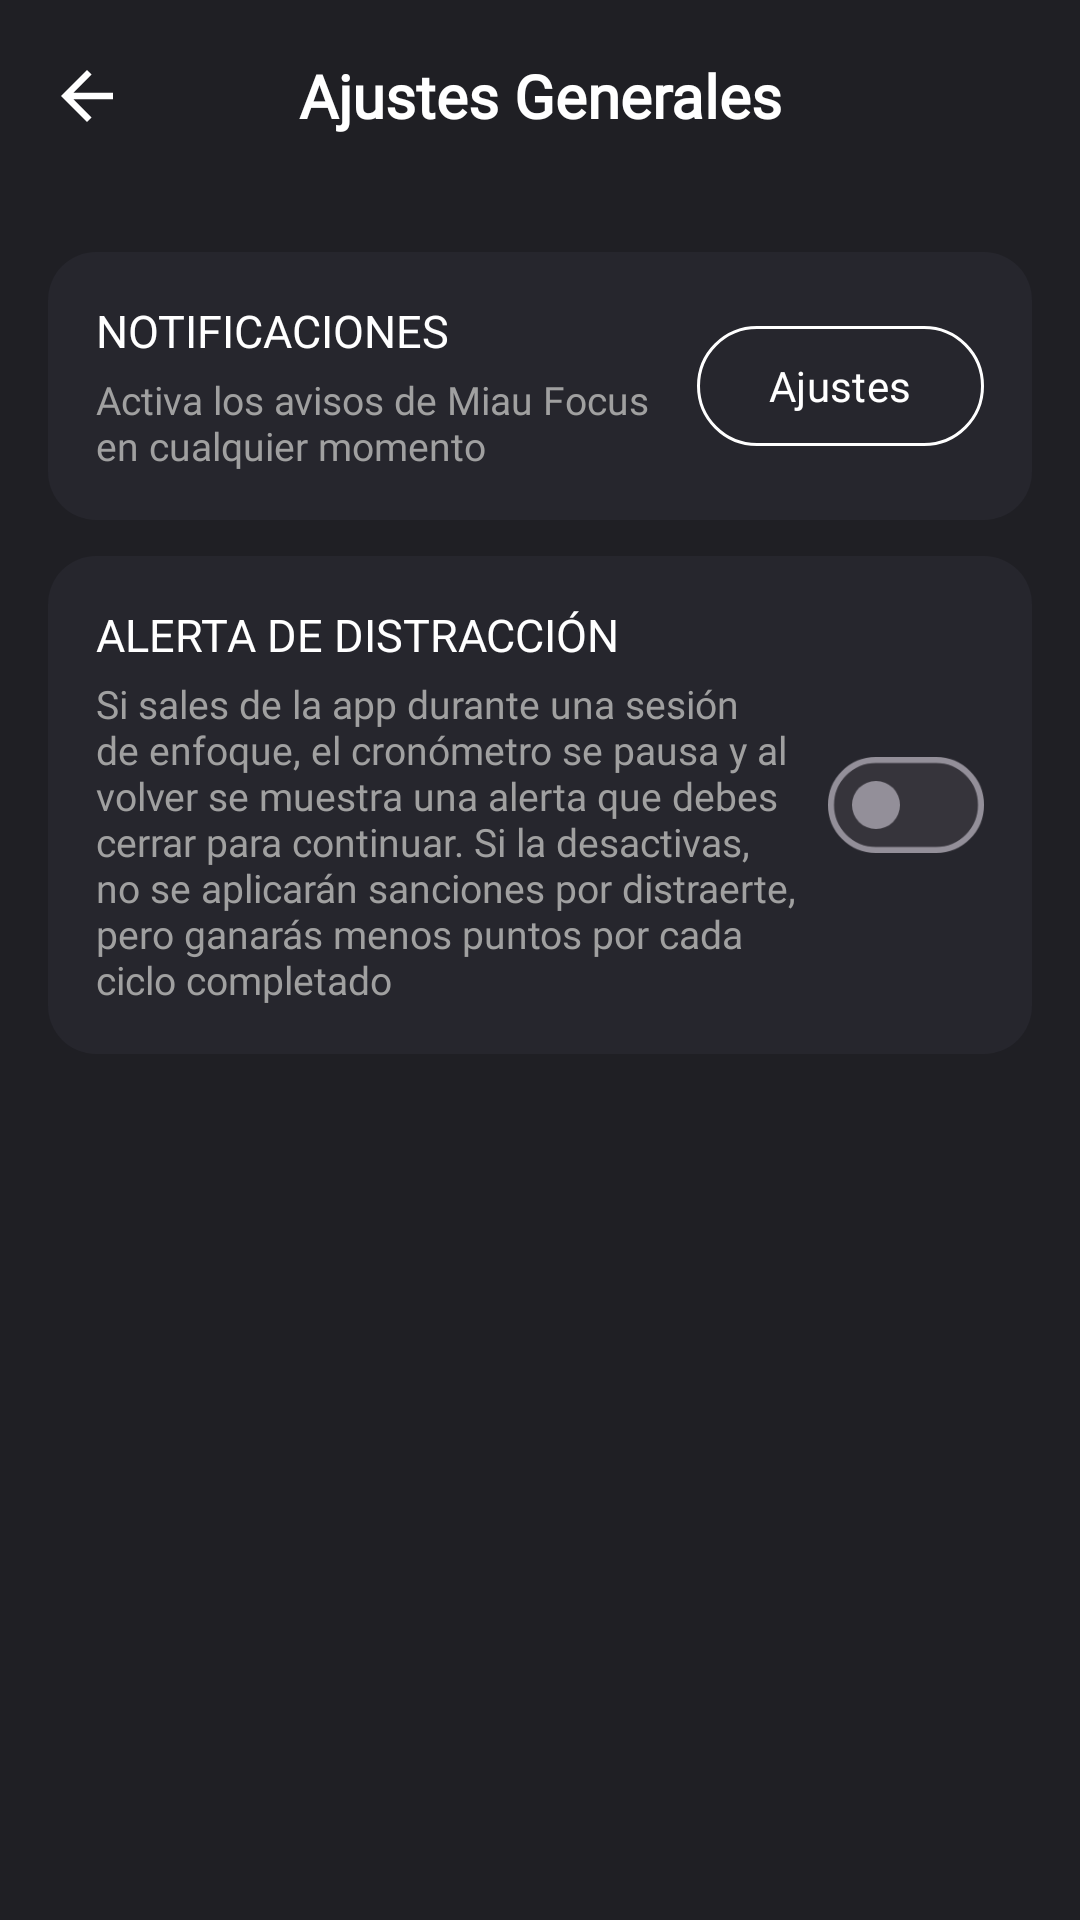

Named icons in this screenshot (1080*1920) and their bounding boxes, bbox=[x1, y1, x2, y2]:
Atrás: bbox=[61, 70, 113, 122]
